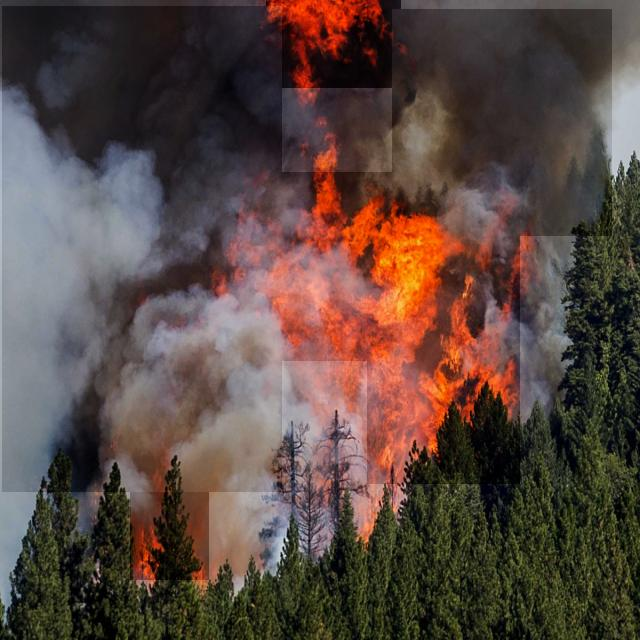Fire: (224, 172, 452, 361), (367, 212, 520, 484), (266, 0, 401, 88), (130, 490, 209, 580)
Smoke: (2, 6, 282, 492), (392, 9, 612, 236)
